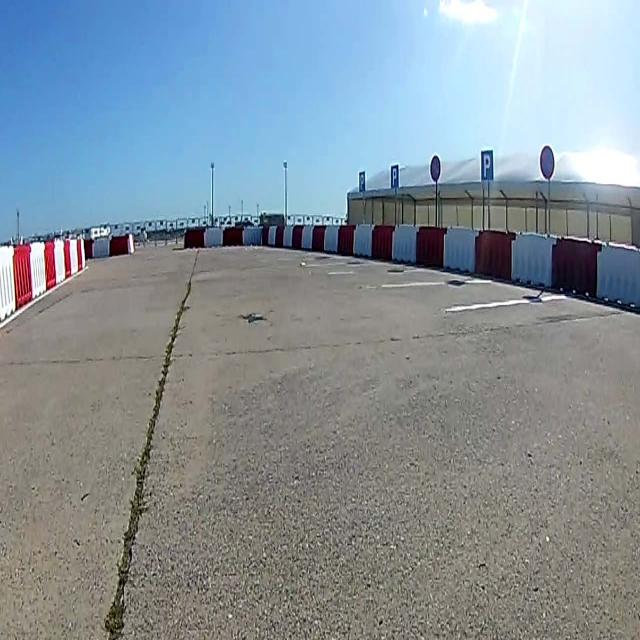park: (481, 150, 493, 182), (389, 164, 398, 188), (358, 172, 366, 192)
parkyasak: (539, 145, 555, 179), (430, 155, 440, 182)
